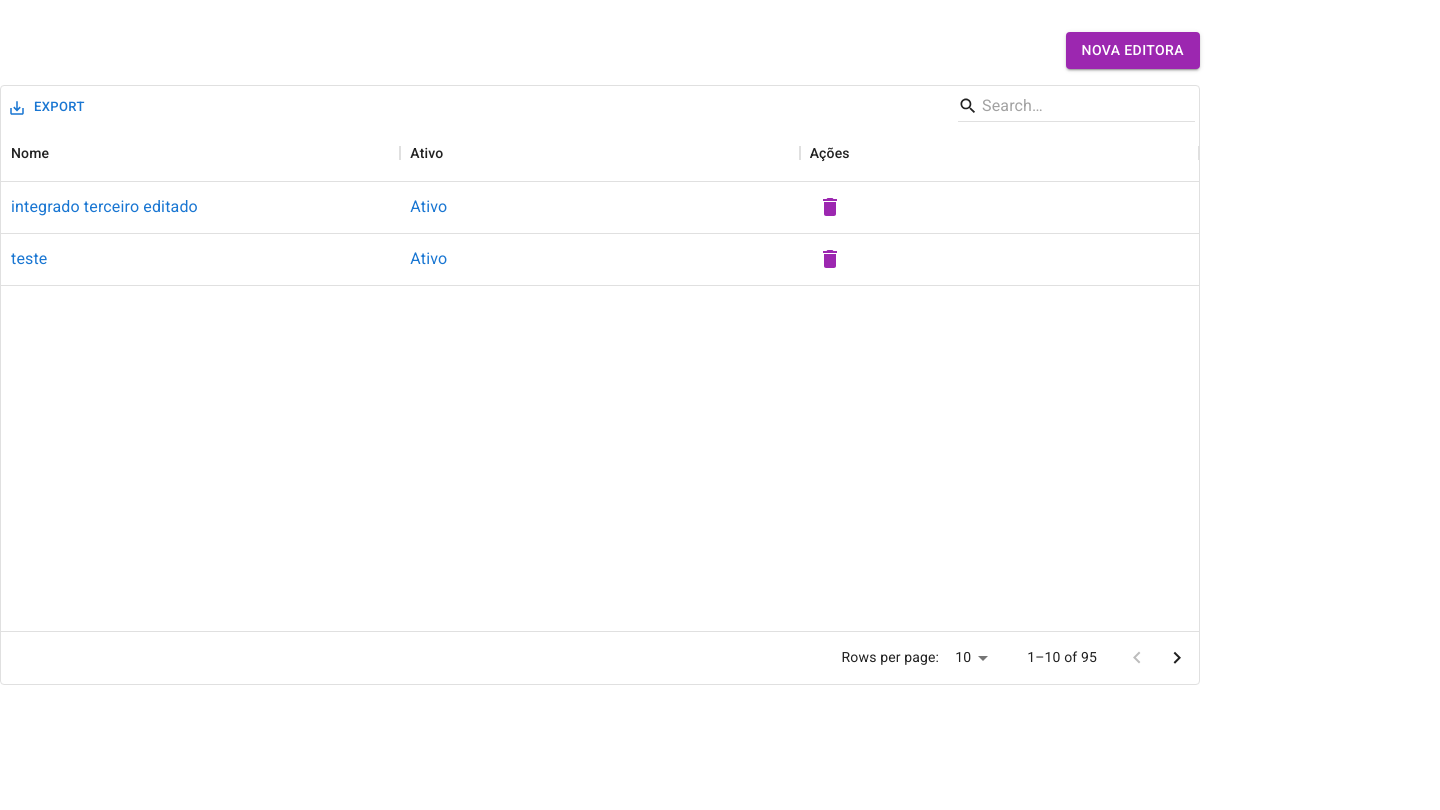
Test case: ListPublisher › should handle on PageChange
This screenshot has width=1440, height=810.
Expected: the text "integrado terceiro editado" is shown, [11,195,198,219]
Click the button with test id "KeyboardArrowRightIcon". click: (1177, 658)
box: [1157,638,1197,678]
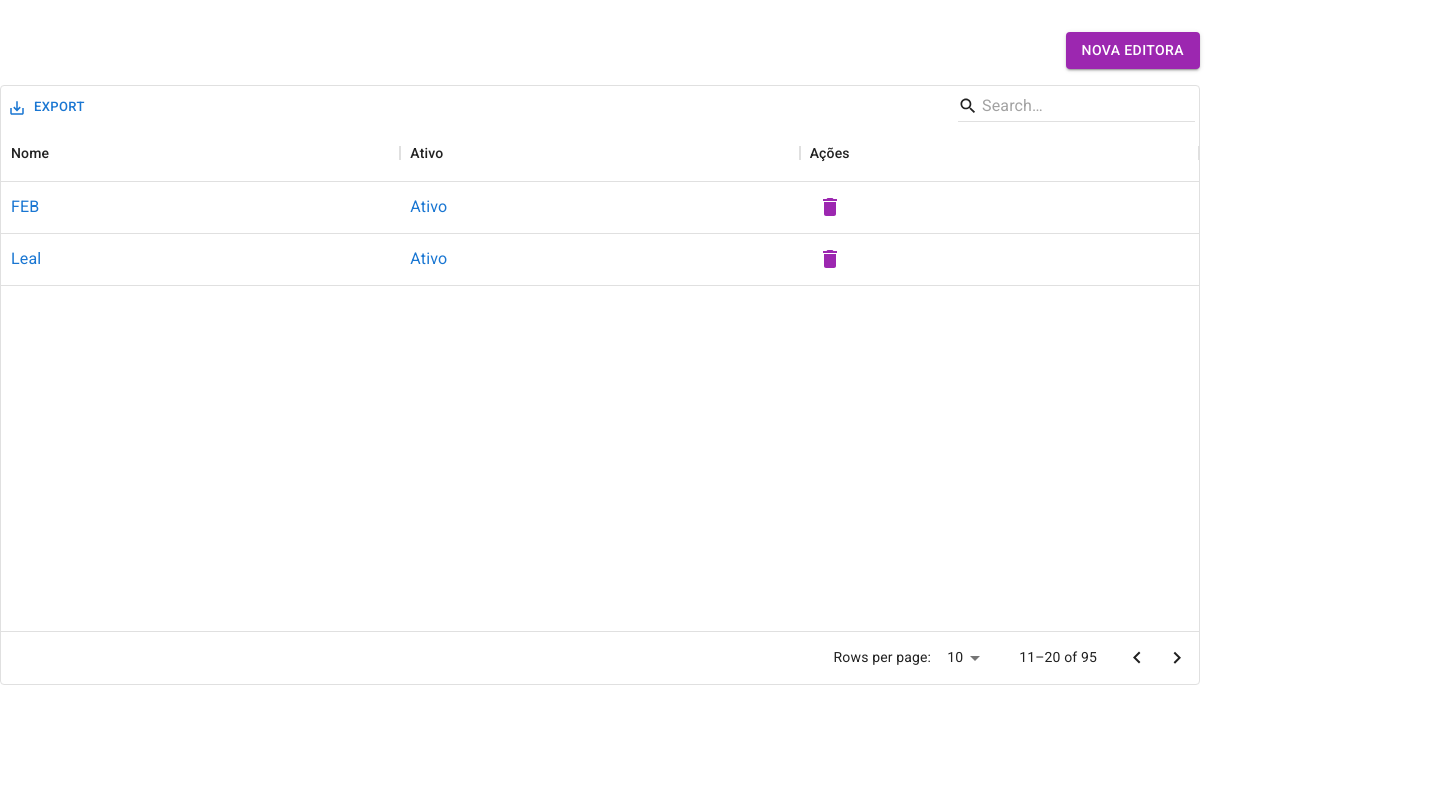
Result: the text "FEB" is shown at [11,195,39,219]
